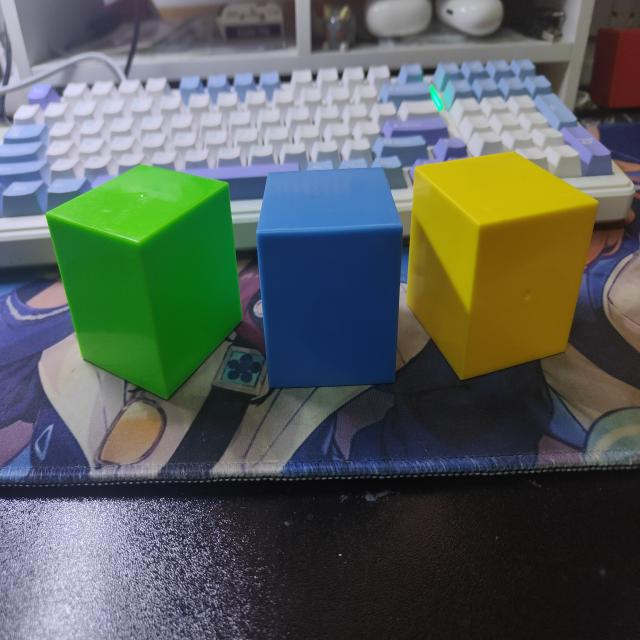blue: (255, 169, 406, 392)
green: (45, 165, 242, 401)
yellow: (404, 152, 598, 382)
